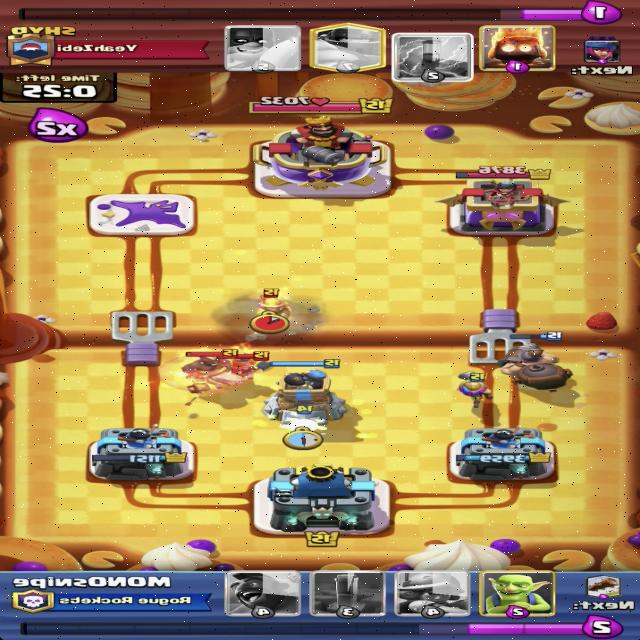Enemy-Hog: (183, 349, 248, 395)
Enemy-Musketeer: (249, 288, 297, 324)
Enemy-Valkyrie: (206, 351, 271, 383)
Player-BombTower: (260, 358, 347, 428)
Player-IceSpirit: (273, 404, 330, 438)
Player-MightyMiner: (492, 331, 580, 391)
Player-Musketeer: (457, 372, 497, 409)
